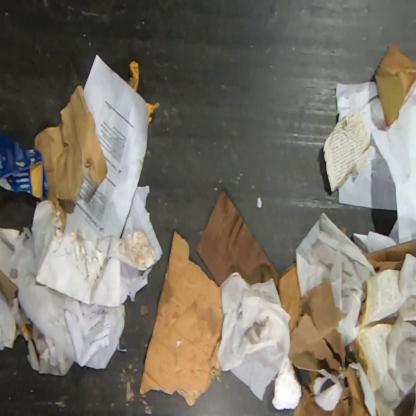cardboard: (31, 84, 157, 308), (278, 260, 379, 415), (140, 232, 224, 406), (196, 190, 282, 296), (373, 42, 416, 130), (0, 128, 49, 202), (364, 239, 415, 275), (341, 226, 347, 236)
